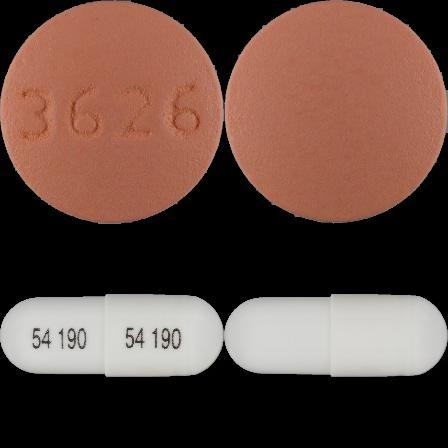69189-0391: (0, 0, 224, 224)
